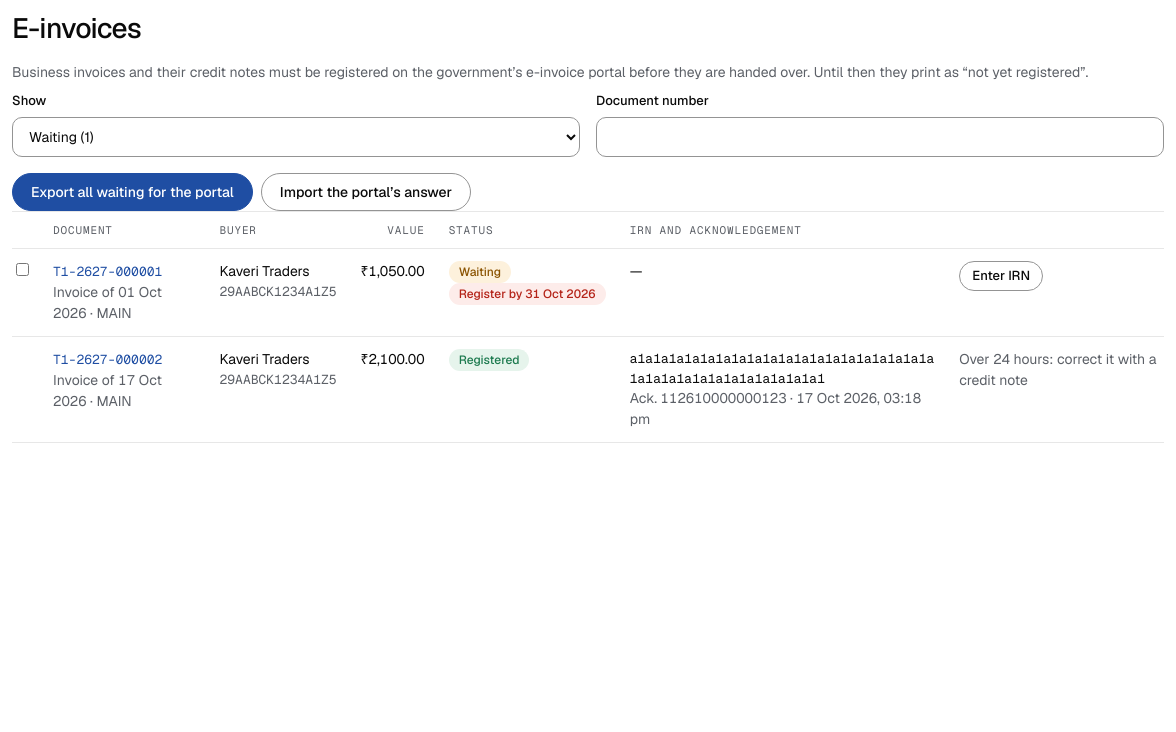
Test: E-invoices screen › lists waiting and registered invoices, flags the 30-day limit, and exports the portal file
Expected: the link "T1-2627-000001" is shown, [53, 263, 162, 280]
Expected: the text "Register by 31 Oct 2026" is shown, [449, 283, 606, 305]
Click the checkbox named "Choose T1-2627-000001".
click(22, 270)  # box [16, 263, 29, 276]
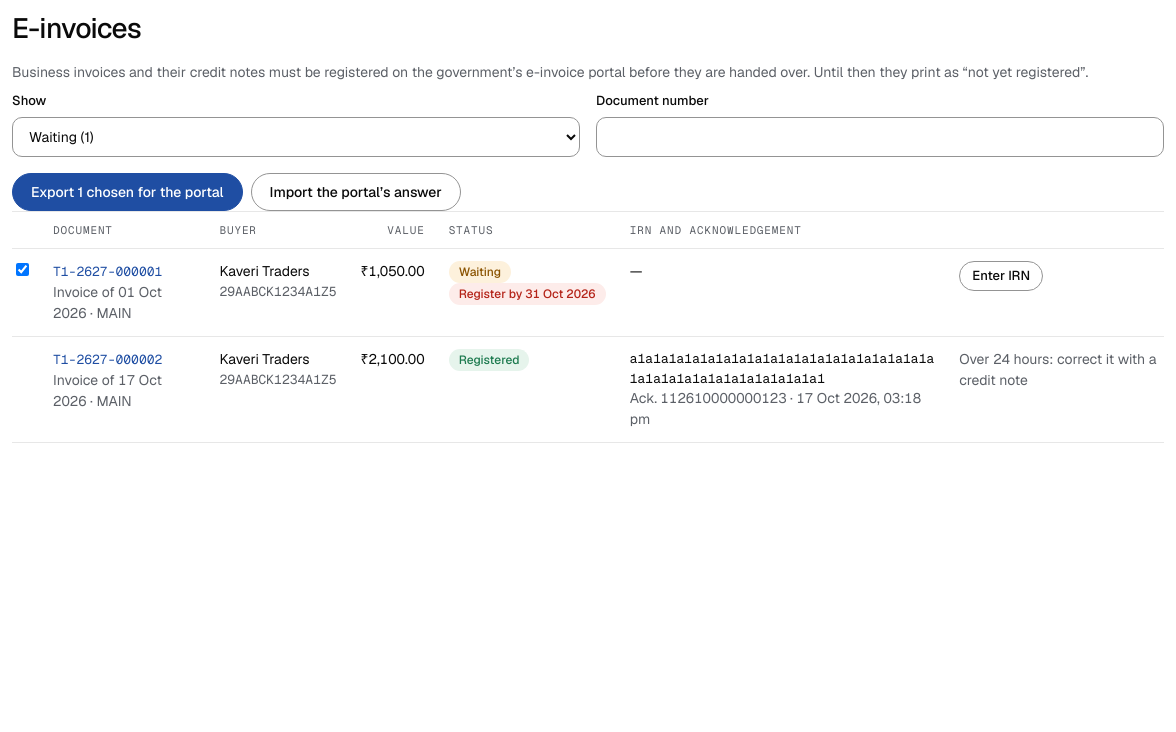
Click the button "Export 1 chosen for the portal".
click(127, 192)  # box [12, 173, 242, 211]
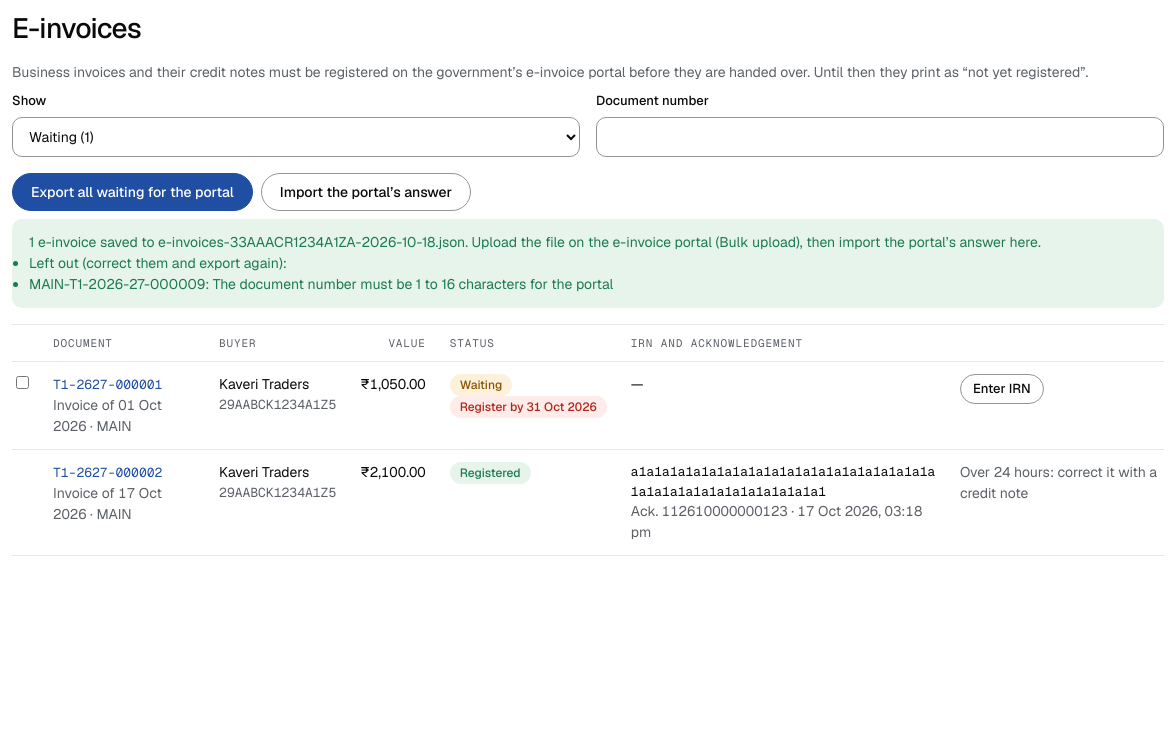
Expected: the text "1 e-invoice saved to e-invoices-33AAACR1234A1ZA-2026-10-18.json" is shown, [29, 233, 1041, 251]
Expected: the list item "MAIN-T1-2026-27-000009: The document number must be 1 to 16 characters" is shown, [29, 275, 613, 293]
